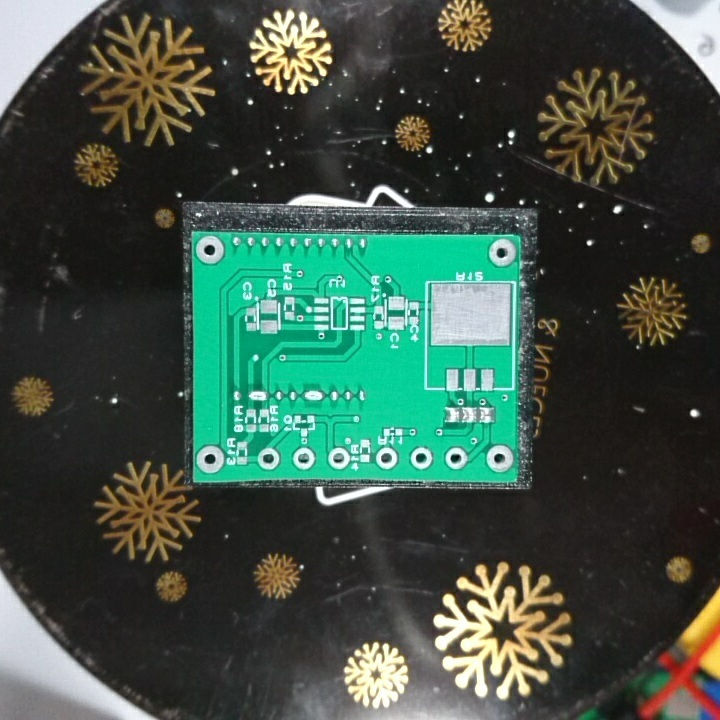F: (197, 440, 229, 475), (485, 237, 521, 268), (196, 232, 227, 267), (486, 444, 514, 474), (254, 446, 283, 474), (290, 445, 318, 474), (441, 445, 468, 475), (374, 444, 401, 473), (325, 444, 351, 474), (410, 446, 433, 474)
P: (245, 388, 272, 407), (302, 387, 328, 406)
